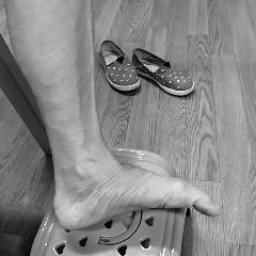Medial View -Left Foot-: (35, 139, 243, 240)
